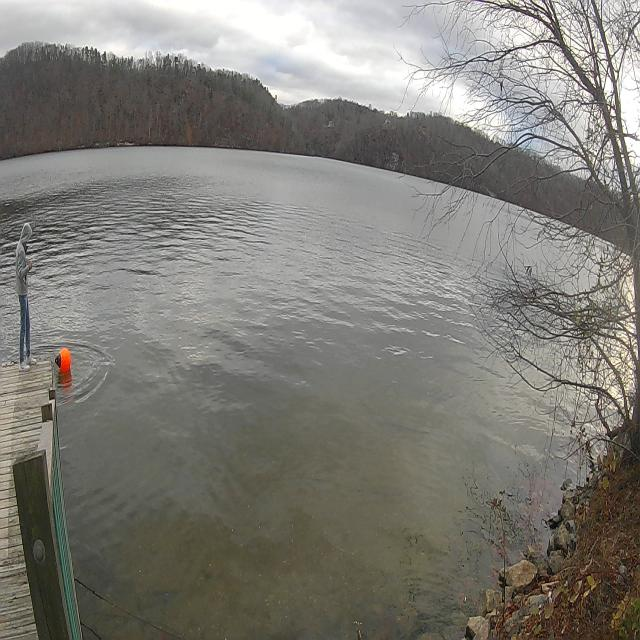Buoy: (54, 340, 74, 384)
